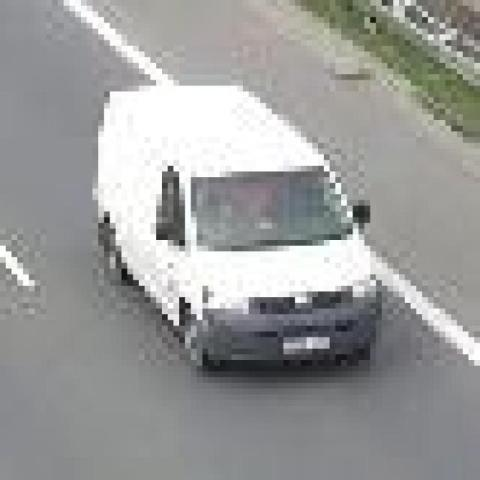van: (98, 86, 376, 372)
